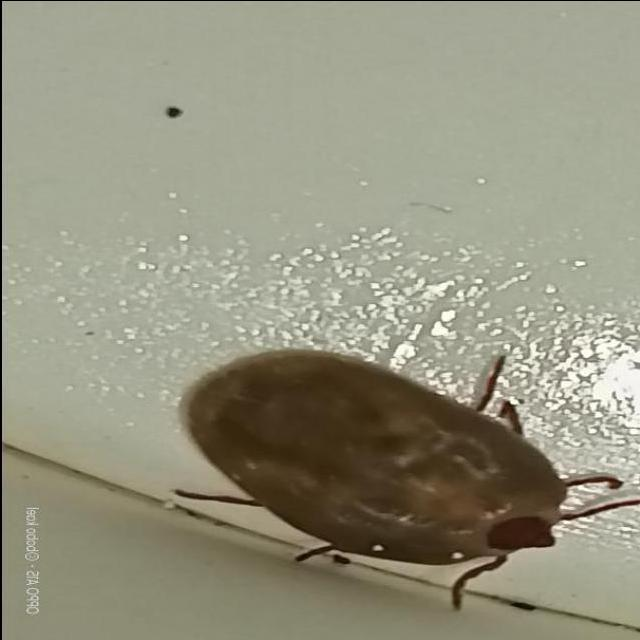Rhipicephalus Sanguineus-F-Fed: (168, 347, 640, 606)
